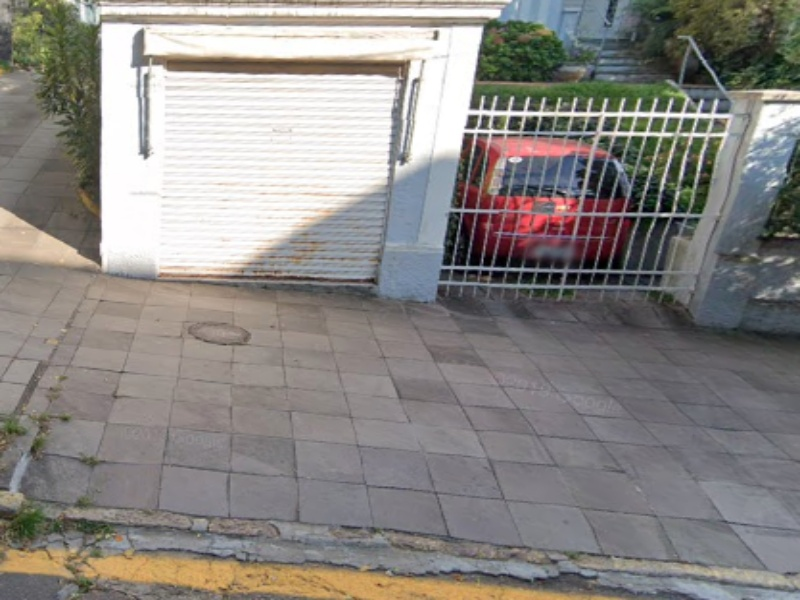v21: (20, 436, 773, 600)
